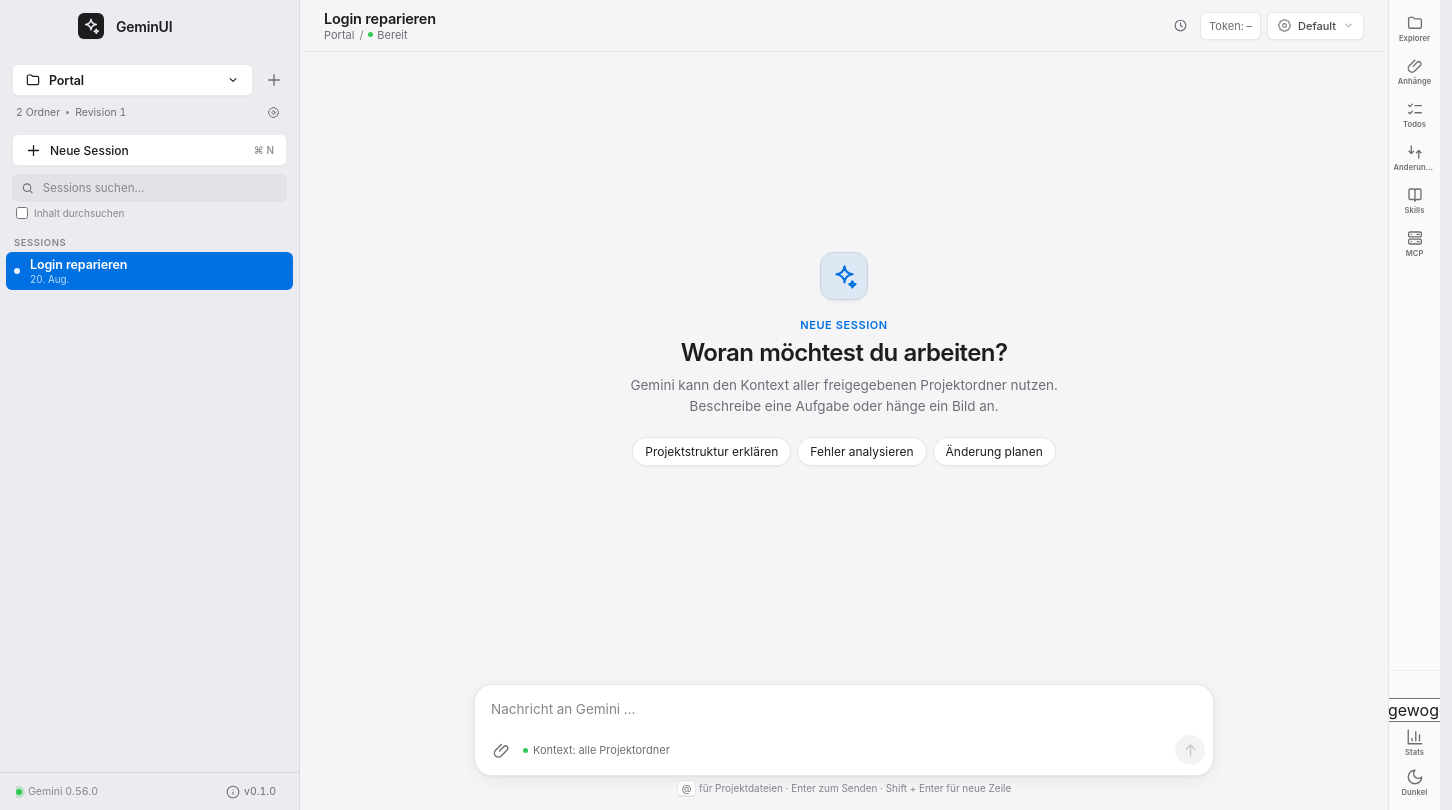
it: Renderer UI › wählt Projektdateien per @-Drop-up und Tab als Promptkontext aus
The width and height of the screenshot is (1452, 810).
Type "Prüfe @" into the text box labelled "Nachricht an Gemini". click: [846, 711]
box: [487,693,1205,729]
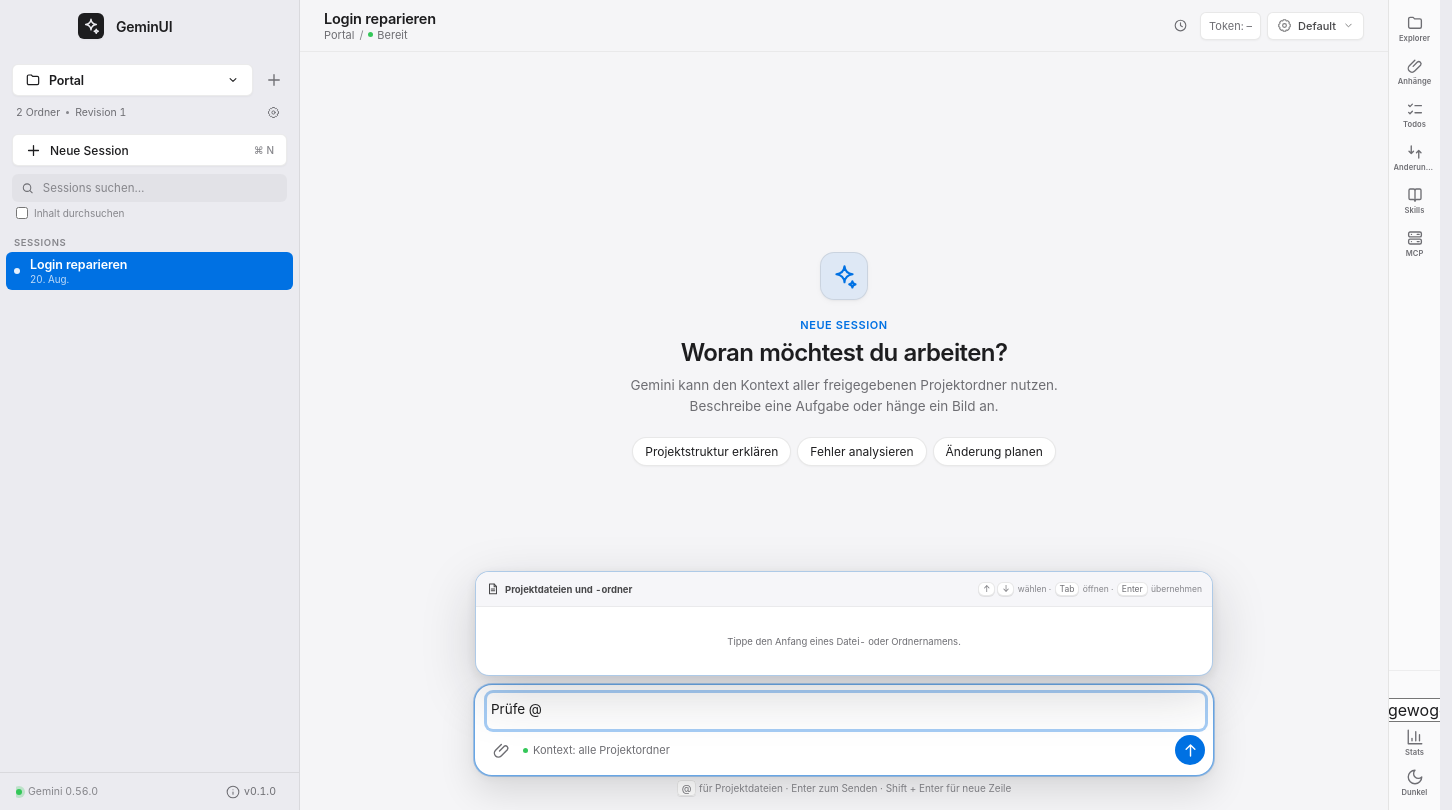
Now the list "Projektdateien" is shown, box [475,571,1213,676]
Now the text "Tippe den Anfang eines Datei- oder Ordnernamens." is shown, box [727,636,961,646]
Type "aut" into the text box named "Nachricht an Gemini". click: [846, 711]
box: [487,693,1205,729]
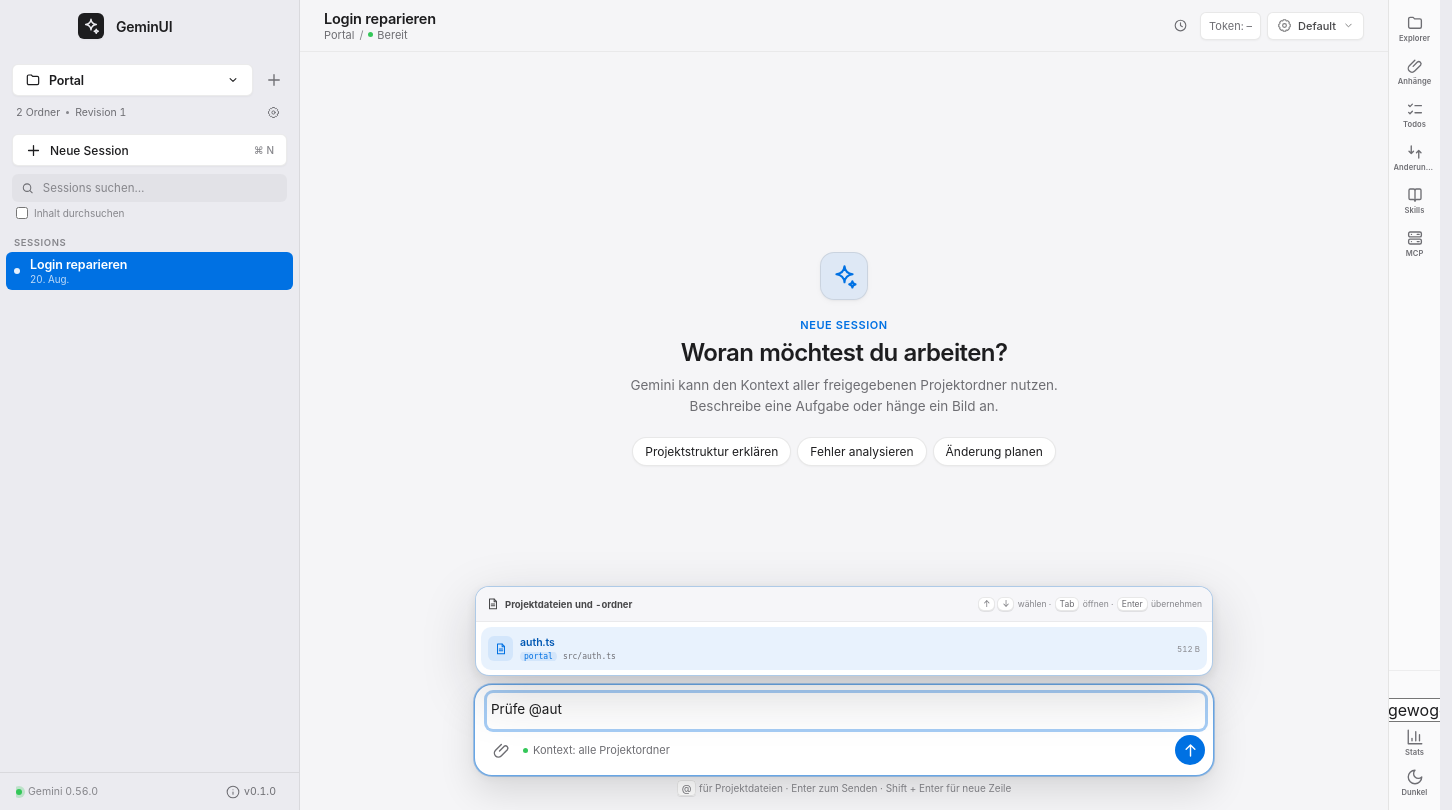
Now the option "auth.ts" is shown, box [481,627,1207,670]
Press Tab
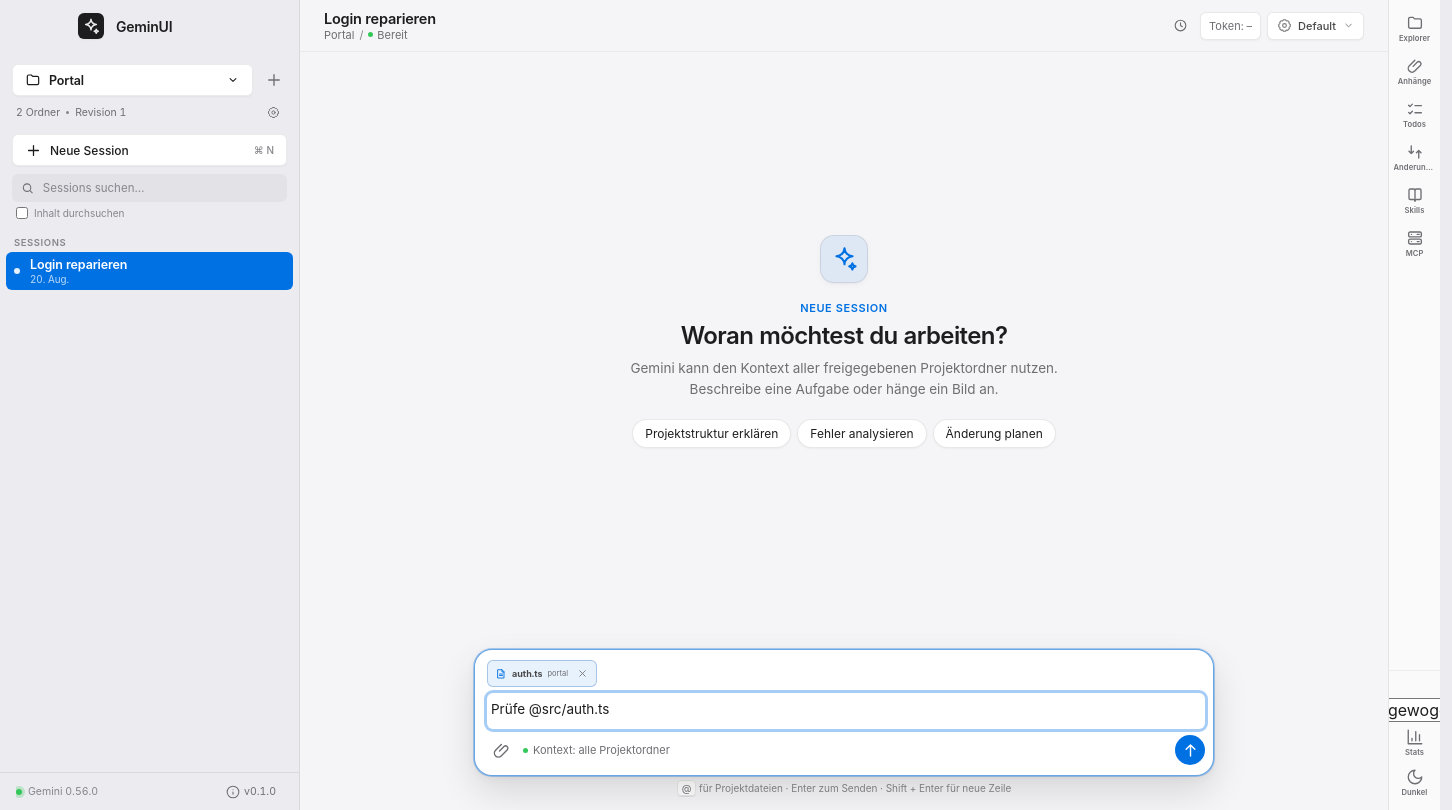
Now the element named "Referenzierte Projektdateien und -ordner" shows "auth.ts", box [512,668,542,679]
Now the text box named "Nachricht an Gemini" holds "Prüfe @src/auth.ts "
Type "auf Fehler" into the text box named "Nachricht an Gemini". click: [846, 711]
box: [487,693,1205,729]
Then press Enter
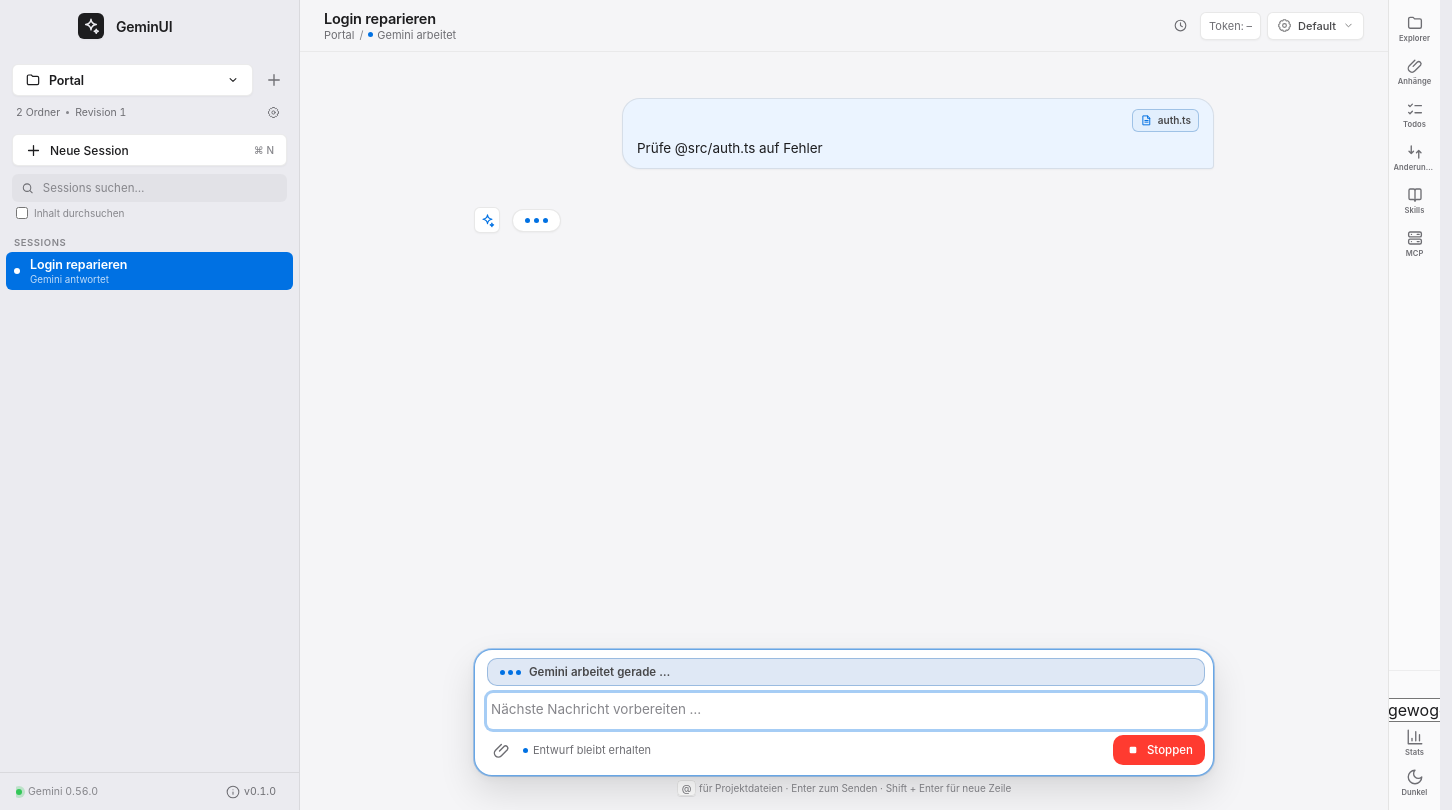
Now the text "auth.ts" is shown, box [1158,113,1191,128]
